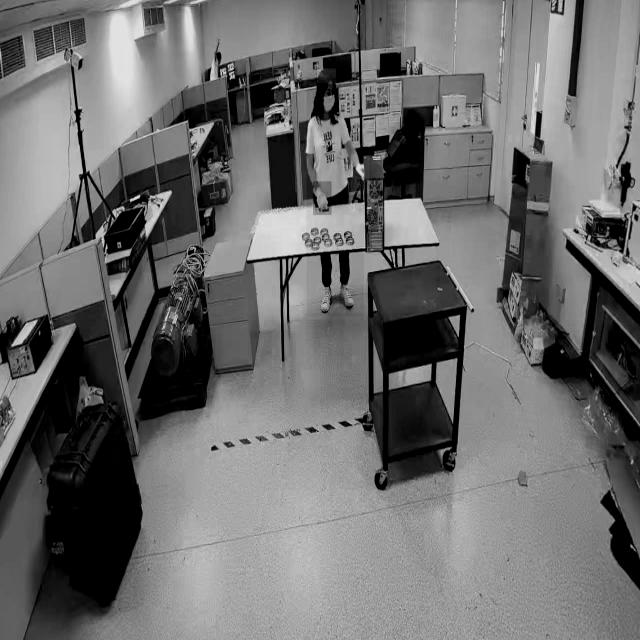face_mask: (321, 84, 341, 120)
hand_glove: (351, 154, 369, 194), (313, 181, 332, 216)
head_nohelmet: (316, 68, 336, 85)
person: (306, 78, 364, 318)
shoes: (339, 277, 358, 311), (318, 284, 334, 318)
